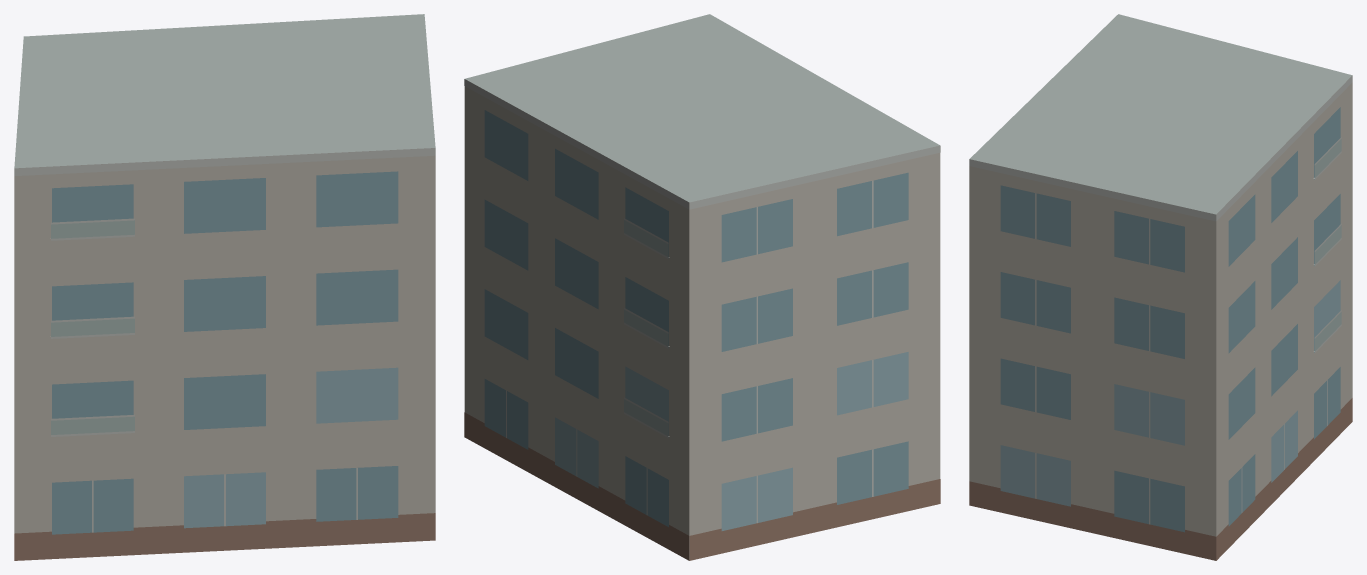
The model's file is residential-4999ac4b-44ec-4b45-bc43-065181978530.glb.
3 renders of one model, left to right at view 1: azimuth 30°, elevation 25°; view 2: azimuth 150°, elevation 25°; view 3: azimuth 270°, elevation 25°, orthographic. The views are drawn at different scales.
Parts seen in each view (by area): view 1: residential-4999ac4b-44ec-4b45-bc43-065181978530.tmp; view 2: residential-4999ac4b-44ec-4b45-bc43-065181978530.tmp; view 3: residential-4999ac4b-44ec-4b45-bc43-065181978530.tmp.
Boxes of the visible parts, <box> form: residential-4999ac4b-44ec-4b45-bc43-065181978530.tmp: <box>14,14,435,560</box>; residential-4999ac4b-44ec-4b45-bc43-065181978530.tmp: <box>464,14,940,560</box>; residential-4999ac4b-44ec-4b45-bc43-065181978530.tmp: <box>969,14,1352,560</box>.
Size of the model in its own units: 15.16 by 12.2 by 12.25.
